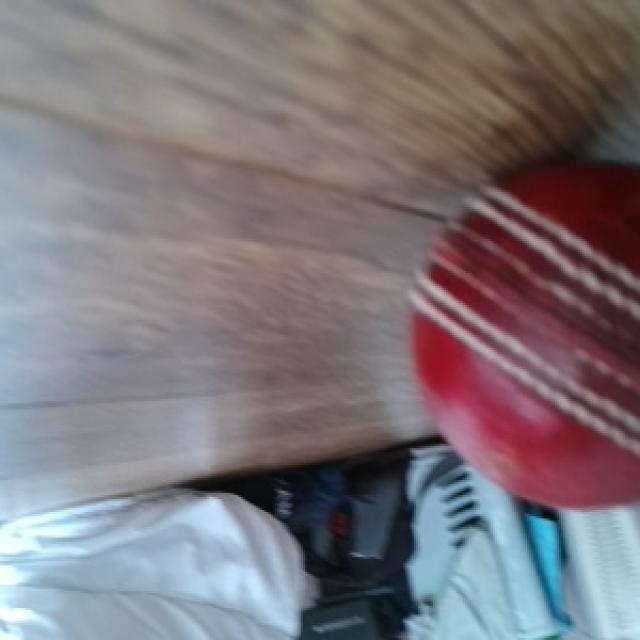ball: (407, 160, 640, 516)
